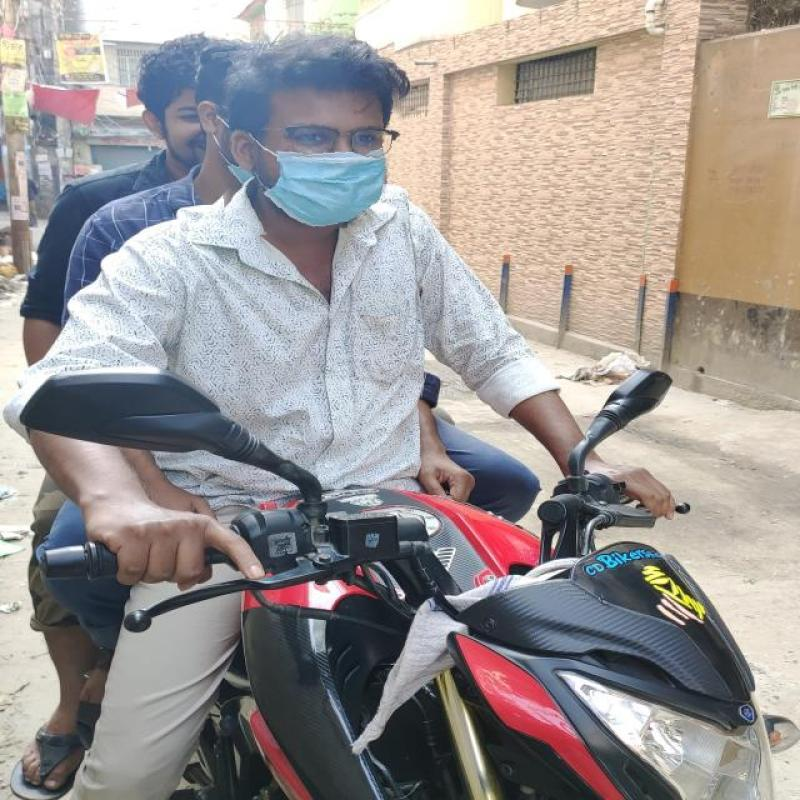nohelmet: (214, 40, 406, 234)
